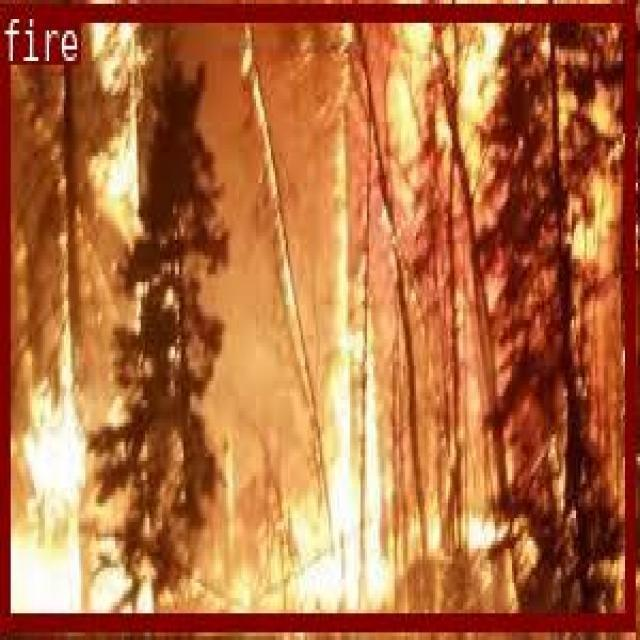fire: (0, 2, 634, 627)
